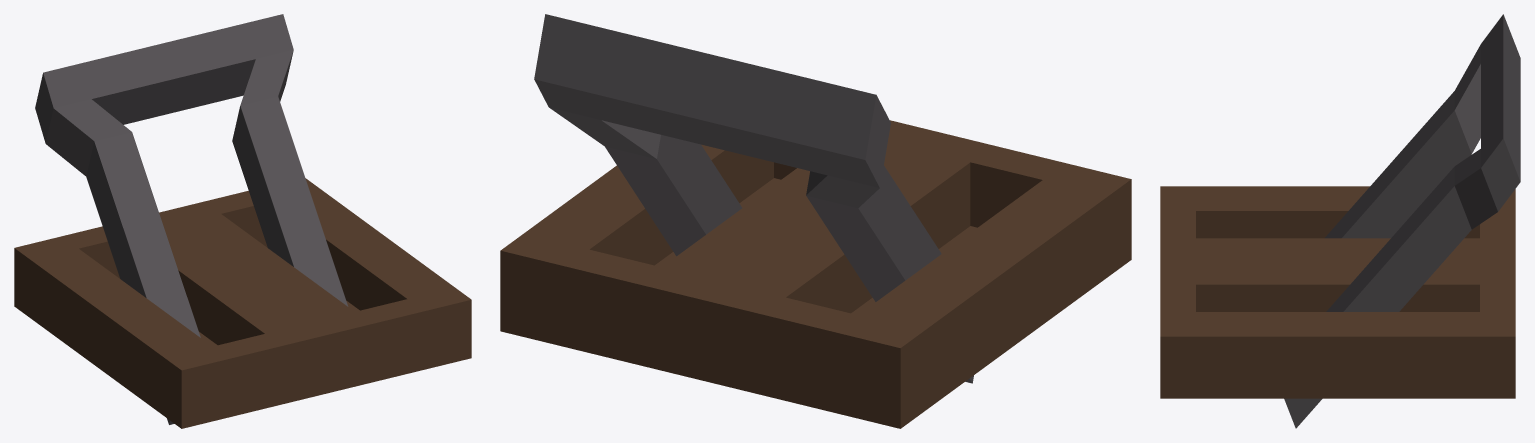
Rendered from LeverFloorEnd.glb.
3 renders of one model, left to right at view 1: azimuth 30°, elevation 25°; view 2: azimuth 150°, elevation 25°; view 3: azimuth 270°, elevation 25°, orthographic. The views are drawn at different scales.
Visible parts, largest first — view 1: Plane.005, Plane.003, Plane.004; view 2: Plane.005, Plane.003, Plane.004; view 3: Plane.005, Plane.004, Plane.003.
Part boxes in pixels (x1,y1,x2,y2): Plane.005: (14,178,471,428); Plane.003: (35,43,200,424); Plane.004: (163,14,348,306); Plane.005: (500,120,1131,428); Plane.003: (700,54,973,383); Plane.004: (534,14,742,256); Plane.005: (1160,186,1515,398); Plane.004: (1284,76,1520,428); Plane.003: (1325,14,1520,238).
Bounding box in the file's own units: 0.8582 × 0.814 × 0.8702.
